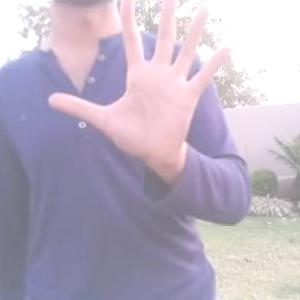follow_hand: (49, 0, 238, 168)
